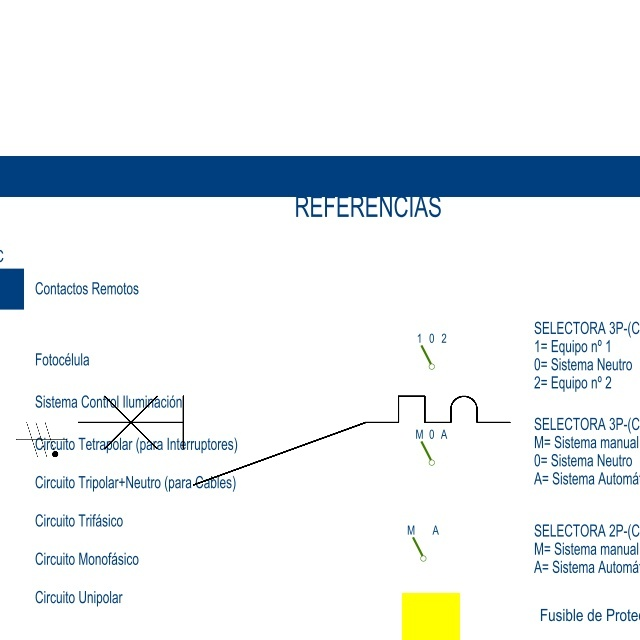interruptor_termomagnetico: (67, 385, 521, 496)
